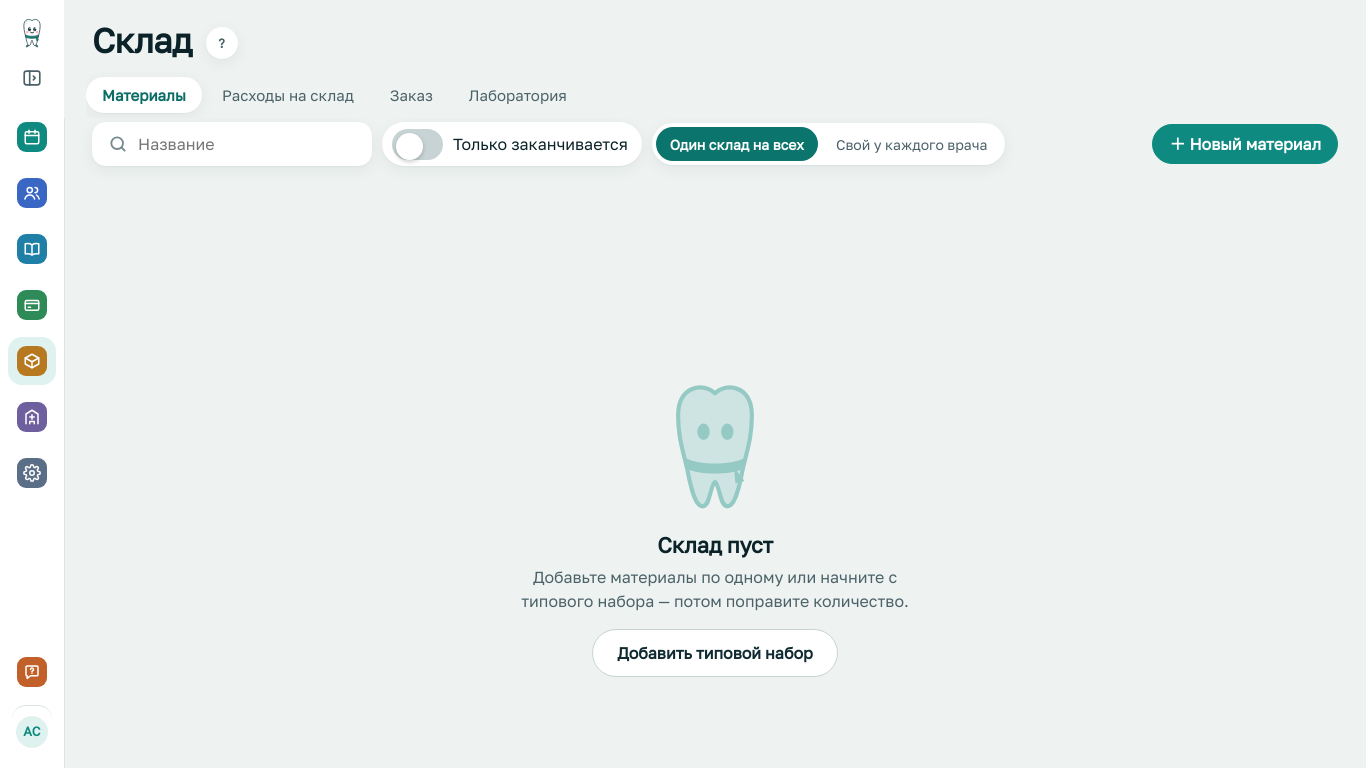
it: пустой склад — «Добавить типовой набор»
Click the button "Добавить типовой набор".
click(715, 653)  # box [592, 629, 838, 677]
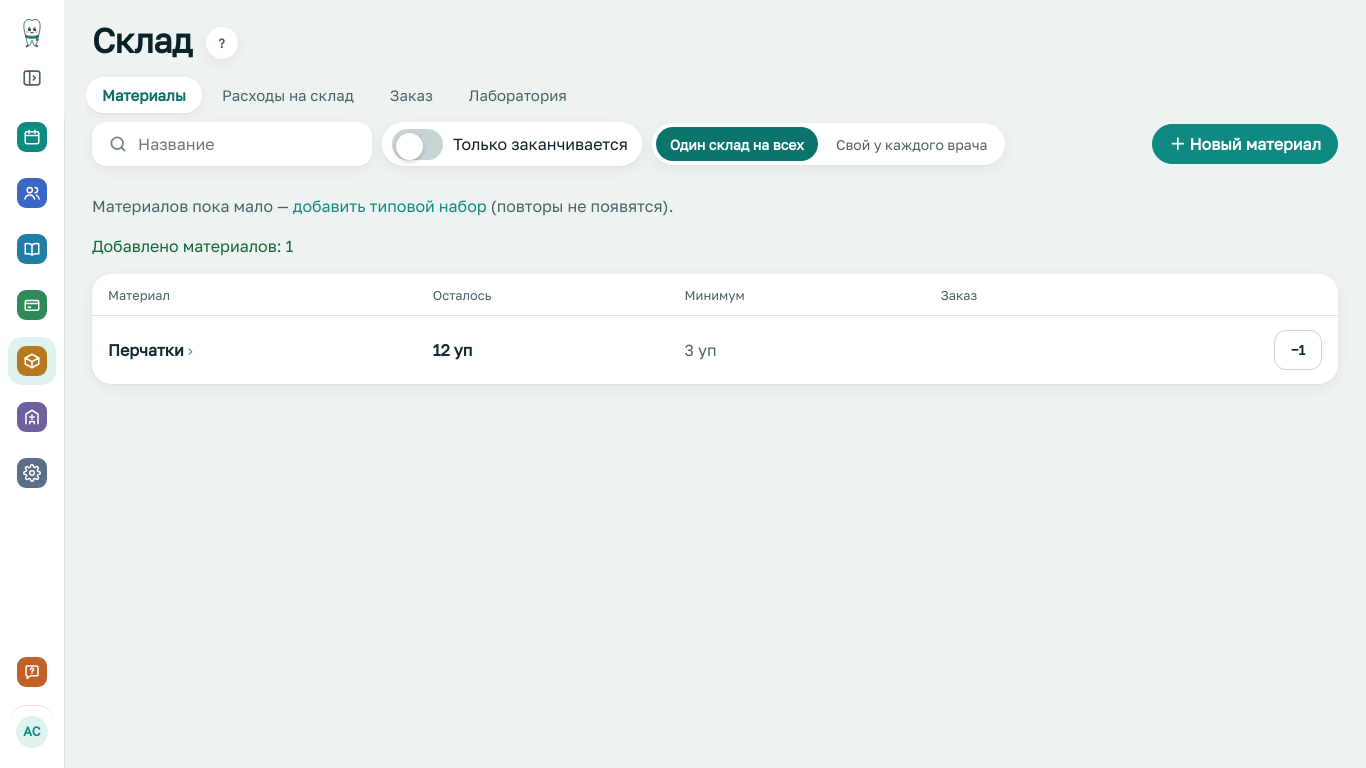
Expected: the button "Перчатки" is shown, [108, 338, 193, 362]
